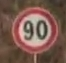limite 90: (10, 5, 59, 54)
